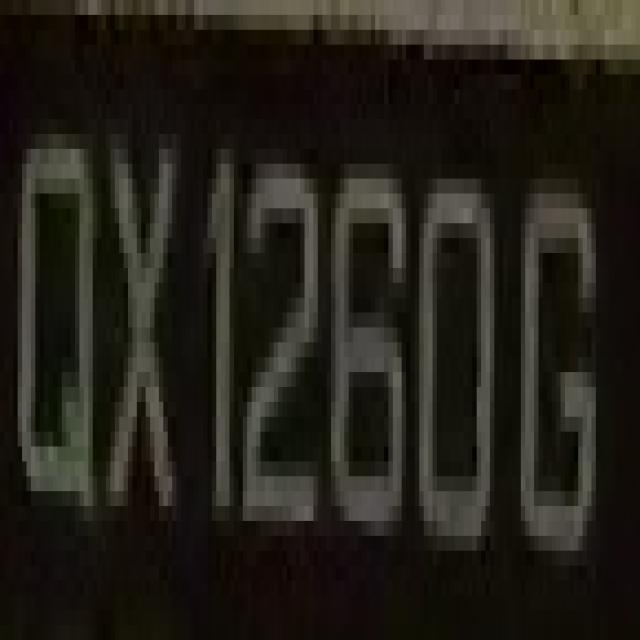0: (402, 134, 498, 625)
1: (203, 59, 238, 596)
2: (238, 90, 322, 580)
6: (327, 104, 406, 566)
G: (516, 119, 600, 536)
Q: (13, 104, 97, 521)
X: (92, 104, 176, 566)
